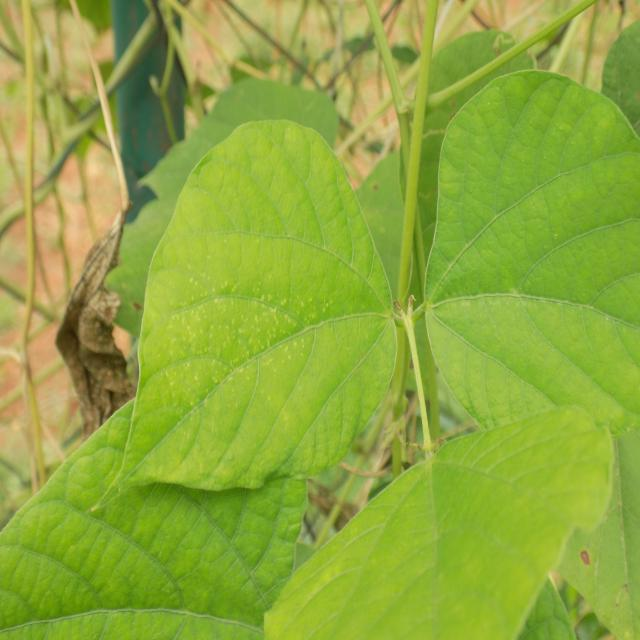Dolicos bean_healthy: (84, 110, 399, 508), (415, 65, 640, 475), (260, 408, 614, 640)
